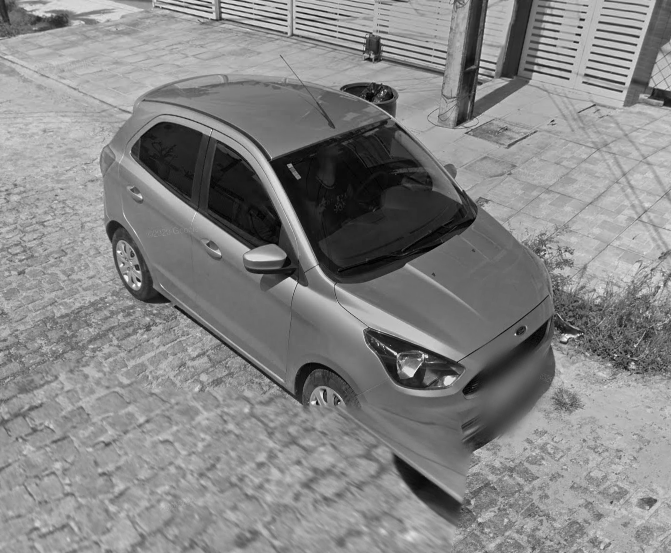car: (92, 51, 560, 473)
